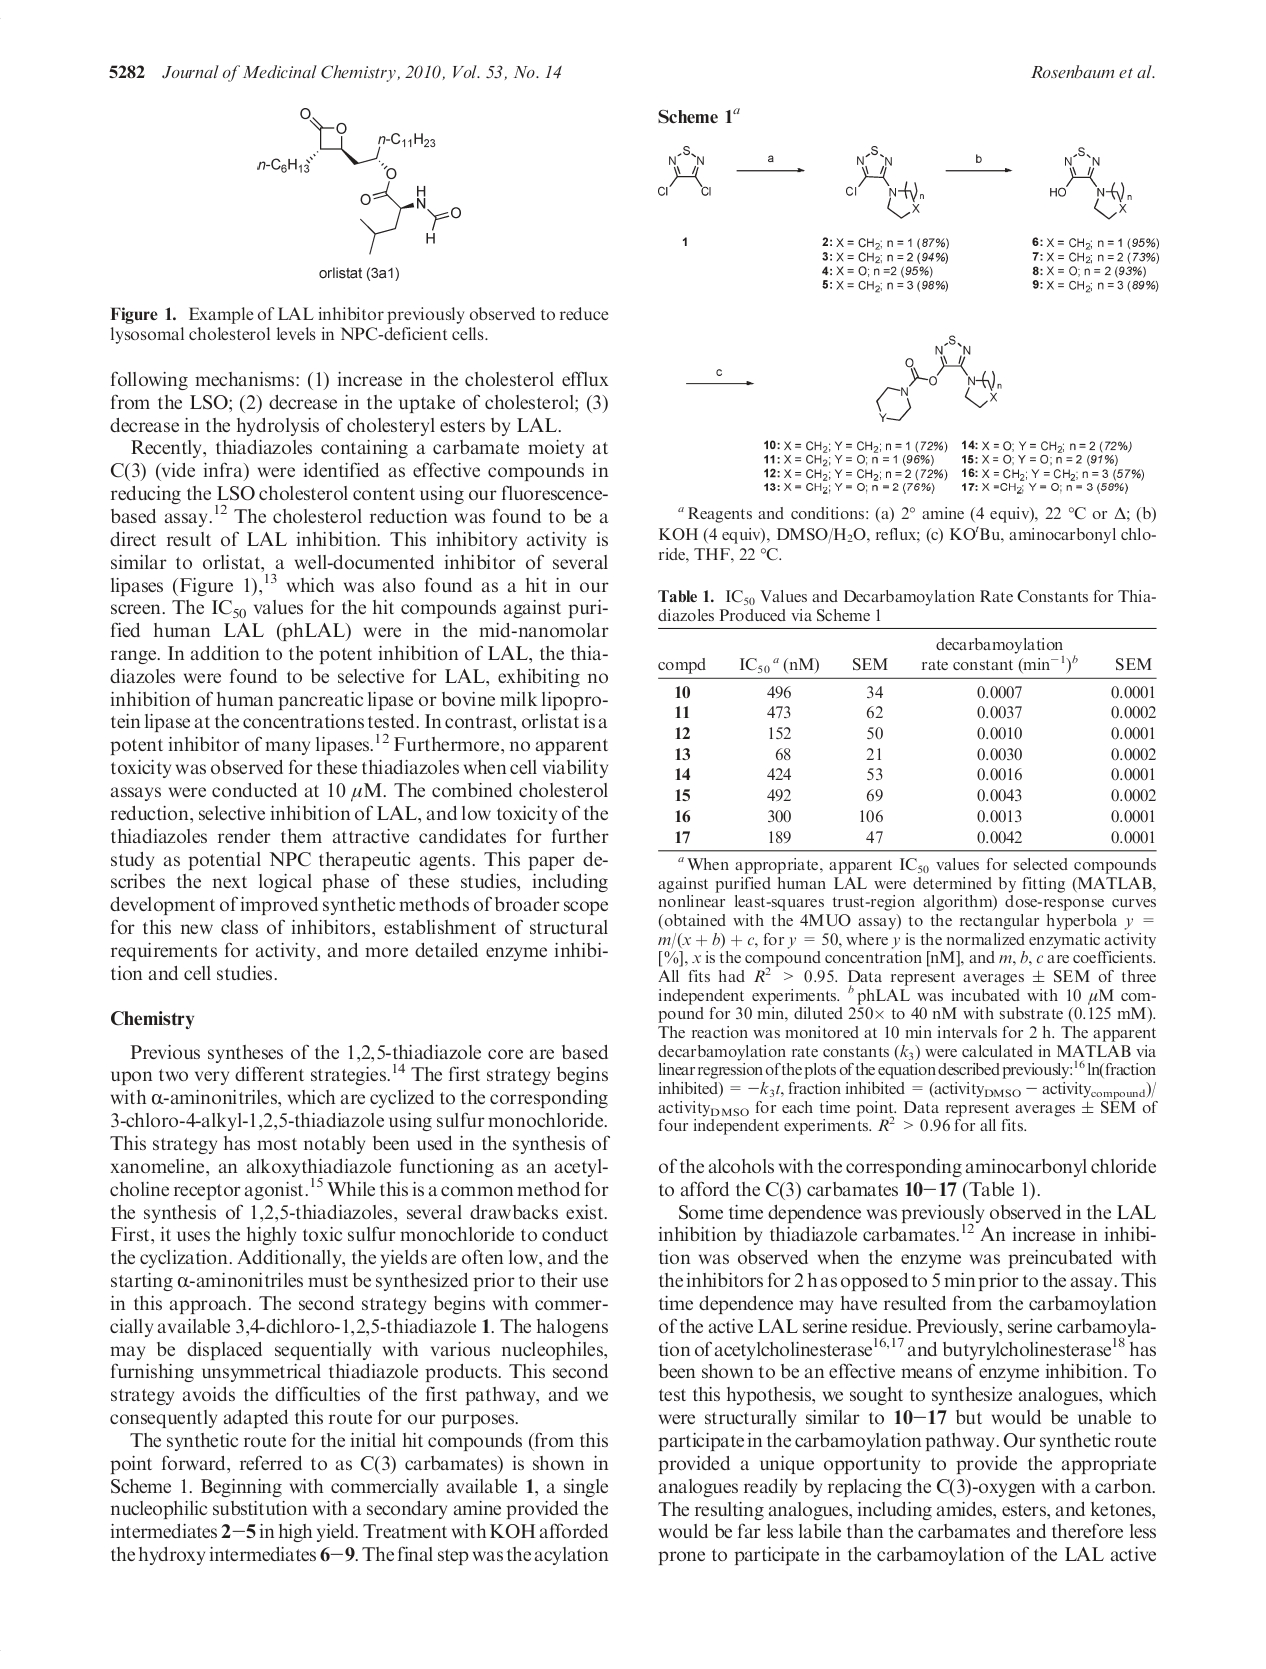exist_molecular: (255, 106, 461, 255), (872, 334, 1003, 426), (1047, 140, 1133, 223), (844, 145, 926, 219), (656, 144, 711, 198)
